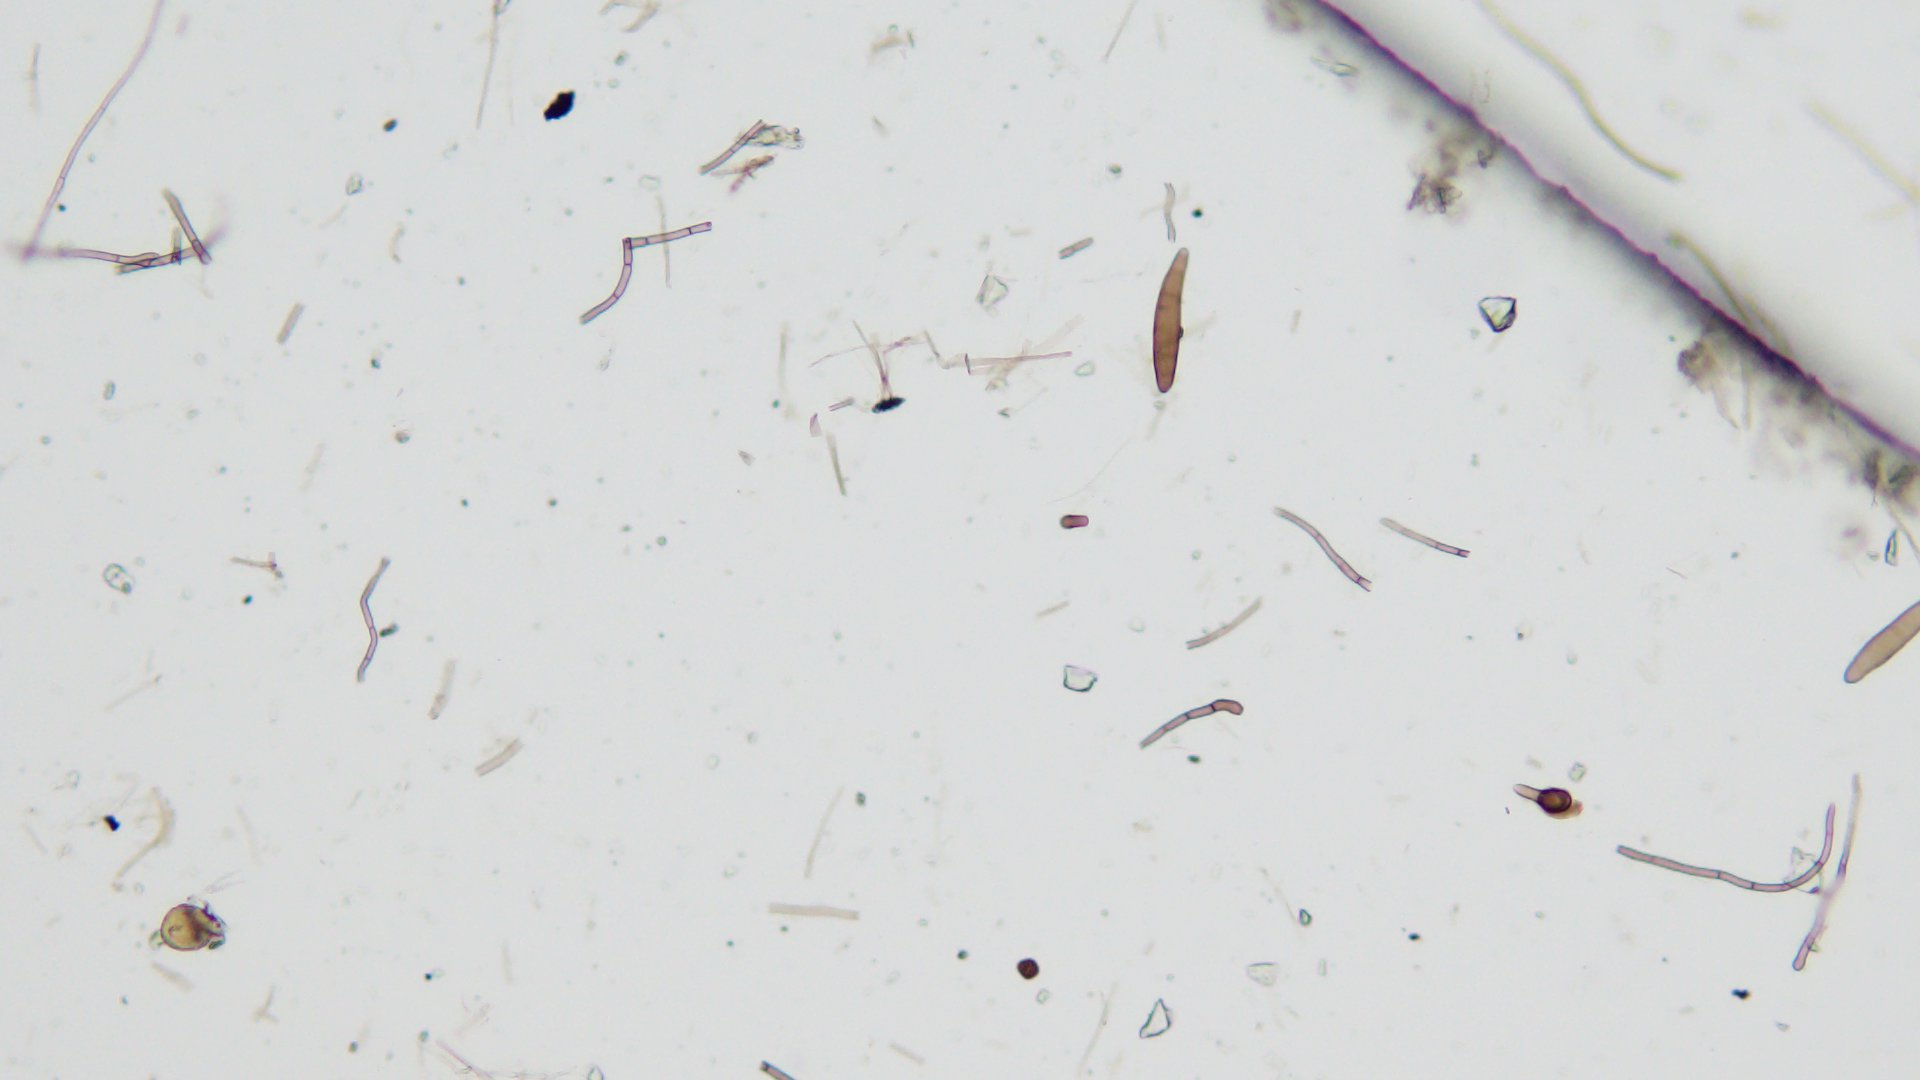dbb_spore: (1151, 251, 1189, 393)
shs_spore: (1017, 957, 1040, 978)
xb_spore: (156, 905, 218, 949)
